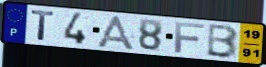4: (62, 11, 88, 46)
8: (137, 18, 164, 52)
A: (94, 14, 137, 52)
B: (205, 24, 240, 60)
F: (174, 21, 207, 54)
T: (30, 9, 57, 42)
